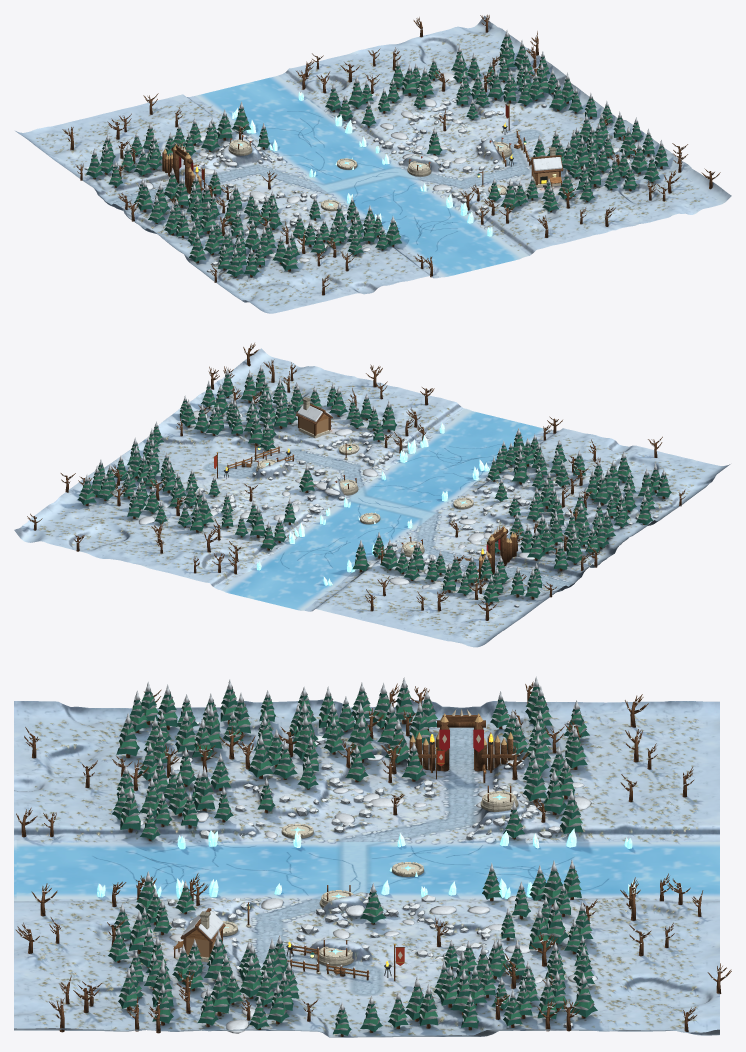
The model's file is battlefield-snow-single.glb.
The picture shows the model from 3 angles, top to bottom: view 1: azimuth 30°, elevation 25°; view 2: azimuth 150°, elevation 25°; view 3: azimuth 270°, elevation 25°; orthographic projection. The views are drawn at different scales.
Parts seen in each view (by area): view 1: Terrain / snow / rt, Ice sheet / frozen river.001, Village forge house, Raider camp gate; view 2: Terrain / snow / rt, Ice sheet / frozen river.001, Village forge house, Raider camp gate; view 3: Terrain / snow / rt, Ice sheet / frozen river.001, Raider camp gate, Village forge house, Build pad 1 / high, Build pad 6 / high, Tree / conifer 4.005, Tree / conifer 1.059, Tree / conifer 3.017, Tree / conifer 1.071, Tree / conifer 2.028, Tree / conifer 1.092.
Boxes of the visible parts, bbox=[...] form: Terrain / snow / rt: bbox=[15, 15, 731, 313]; Ice sheet / frozen river.001: bbox=[194, 75, 527, 276]; Village forge house: bbox=[529, 147, 563, 189]; Raider camp gate: bbox=[162, 144, 202, 193]; Terrain / snow / rt: bbox=[14, 348, 730, 647]; Ice sheet / frozen river.001: bbox=[217, 409, 551, 611]; Village forge house: bbox=[296, 397, 332, 438]; Raider camp gate: bbox=[477, 526, 516, 578]; Terrain / snow / rt: bbox=[14, 699, 719, 1037]; Ice sheet / frozen river.001: bbox=[16, 838, 719, 901]; Raider camp gate: bbox=[409, 709, 513, 772]; Village forge house: bbox=[173, 908, 225, 962]; Build pad 1 / high: bbox=[480, 785, 518, 811]; Build pad 6 / high: bbox=[316, 940, 353, 966]; Tree / conifer 4.005: bbox=[560, 789, 583, 833]; Tree / conifer 1.059: bbox=[120, 787, 140, 832]; Tree / conifer 3.017: bbox=[570, 973, 597, 1018]; Tree / conifer 1.071: bbox=[116, 713, 139, 758]; Tree / conifer 2.028: bbox=[194, 766, 215, 811]; Tree / conifer 1.092: bbox=[523, 758, 546, 802].
Bounding box in the file's own units: 14.48 × 1.31 × 13.15.
30 materials, 16 textured.
